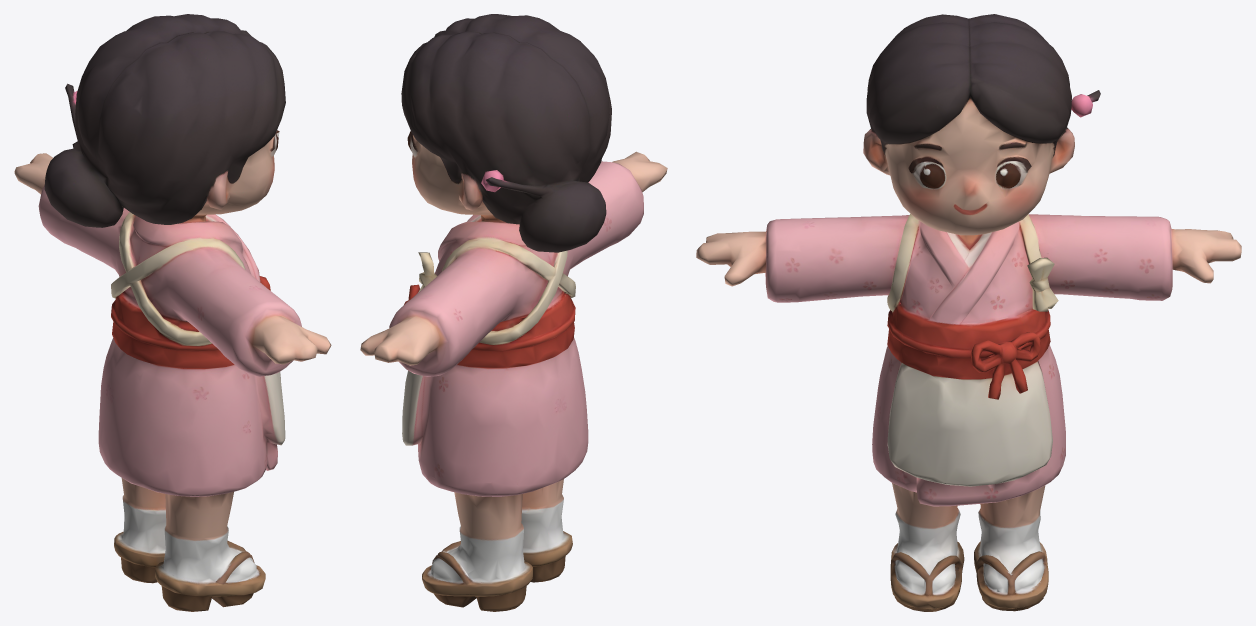
File: s2_staff_server_source.glb
The picture shows the model from 3 angles, left to right: view 1: azimuth 30°, elevation 25°; view 2: azimuth 150°, elevation 25°; view 3: azimuth 270°, elevation 25°; orthographic projection.
Visible parts, largest first — view 1: tripo_node_b3159dc7-4dd5-42d5-a2b4-33d46a60e3fa; view 2: tripo_node_b3159dc7-4dd5-42d5-a2b4-33d46a60e3fa; view 3: tripo_node_b3159dc7-4dd5-42d5-a2b4-33d46a60e3fa.
Boxes of the visible parts, left/top/right/bottom form: tripo_node_b3159dc7-4dd5-42d5-a2b4-33d46a60e3fa: left=14, top=14, right=331, bottom=611; tripo_node_b3159dc7-4dd5-42d5-a2b4-33d46a60e3fa: left=360, top=14, right=667, bottom=611; tripo_node_b3159dc7-4dd5-42d5-a2b4-33d46a60e3fa: left=696, top=14, right=1241, bottom=611.
Size of the model in its own units: 0.3861 by 1 by 0.8767.
Materials: 1 (1 with a texture image).
